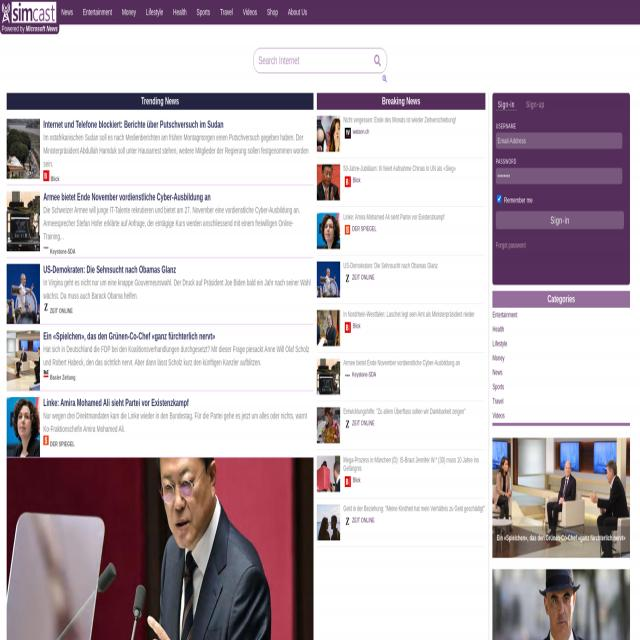button: (7, 458, 314, 640), (492, 437, 630, 559), (492, 568, 630, 640), (496, 211, 624, 230), (6, 191, 40, 252), (6, 330, 40, 391), (6, 119, 40, 179), (6, 264, 40, 324), (6, 397, 40, 457), (0, 1, 56, 22), (316, 358, 340, 396), (316, 164, 340, 201), (316, 213, 340, 250), (316, 310, 340, 347), (316, 504, 340, 541), (316, 116, 340, 152), (316, 262, 340, 298), (316, 408, 340, 444), (316, 456, 340, 492), (78, 2, 117, 22), (283, 2, 312, 22), (142, 2, 168, 22), (117, 2, 141, 22), (168, 2, 192, 22), (191, 2, 215, 22), (238, 2, 262, 22), (215, 2, 238, 22), (56, 2, 78, 22), (262, 2, 283, 22), (345, 176, 351, 188), (43, 170, 49, 181), (345, 322, 351, 333), (345, 476, 351, 487), (345, 128, 351, 138), (344, 224, 350, 234), (43, 242, 49, 252), (344, 273, 350, 283), (43, 302, 49, 312), (43, 368, 49, 378), (344, 370, 350, 380), (344, 419, 350, 429), (43, 435, 49, 445), (344, 516, 350, 526), (382, 74, 387, 84)
field: (253, 49, 387, 73), (496, 168, 622, 184), (496, 133, 622, 148), (497, 195, 501, 203)
